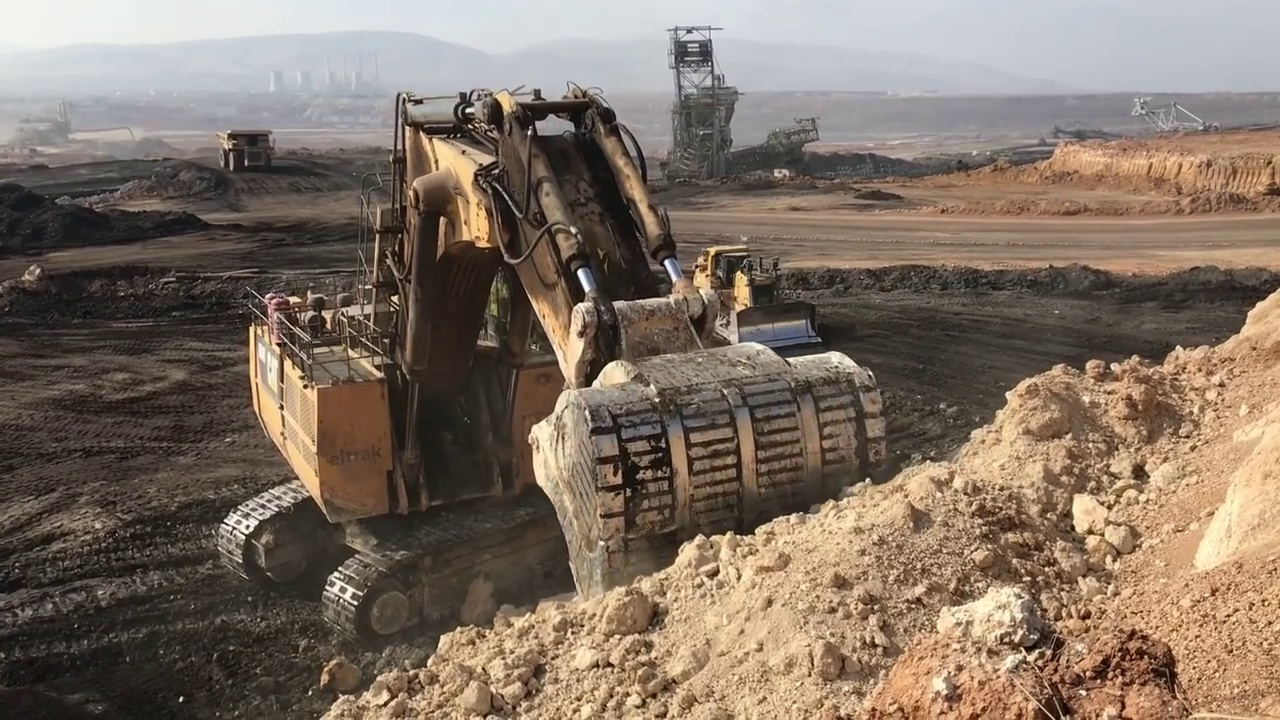dumper: (212, 128, 276, 171)
excavator: (219, 87, 886, 646)
